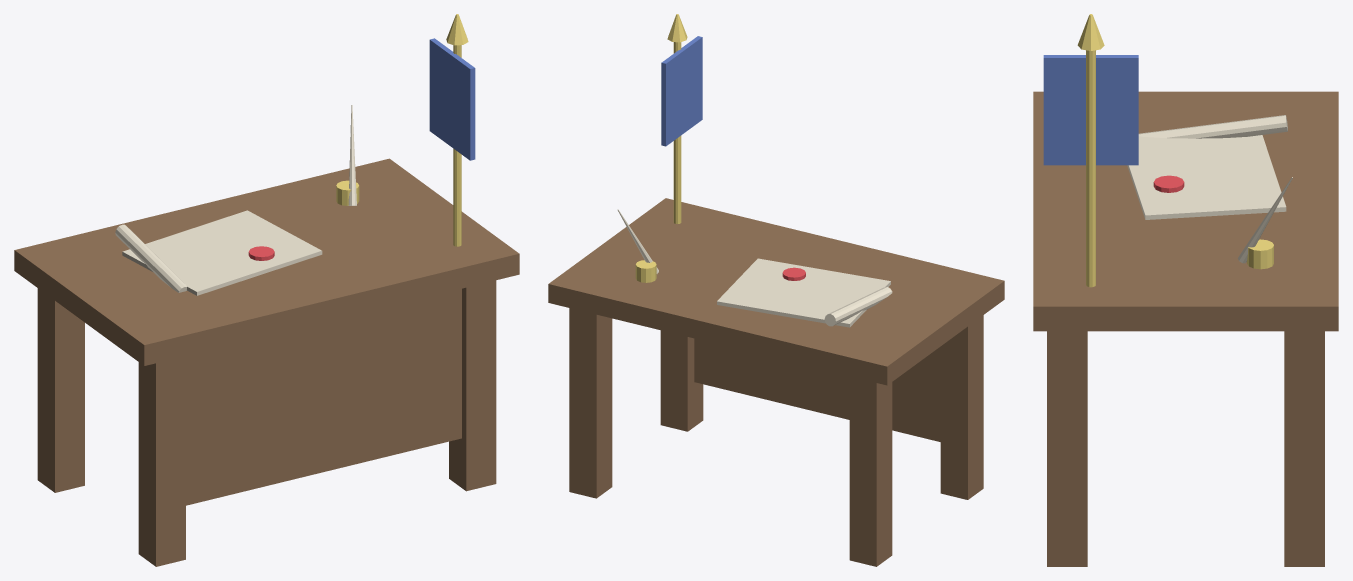
Rendered from town_hall_desk.glb.
The picture shows the model from 3 angles, left to right: view 1: azimuth 30°, elevation 25°; view 2: azimuth 150°, elevation 25°; view 3: azimuth 270°, elevation 25°; orthographic projection. The views are drawn at different scales.
Parts seen in each view (by area): view 1: Cube, Cube.005, Cube.001, Cube.002, Cube.006, Cube.003, Cube.007, Cylinder, Cylinder.003; view 2: Cube, Cube.005, Cube.002, Cube.004, Cube.001, Cube.006, Cube.003, Cube.007, Cylinder, Cylinder.003; view 3: Cube, Cube.006, Cube.003, Cube.004, Cube.007, Cylinder.003, Cylinder, Cylinder.002, Cone.001, Cone, Cylinder.001.
Part boxes in pixels (box(x1,y1,x2,y2)): Cube: box(14, 158, 519, 365); Cube.005: box(186, 288, 461, 505); Cube.001: box(138, 356, 185, 566); Cube.002: box(37, 288, 84, 492); Cube.006: box(122, 210, 322, 295); Cube.003: box(449, 280, 496, 491); Cube.007: box(429, 38, 475, 160); Cylinder: box(115, 224, 186, 292); Cylinder.003: box(453, 45, 461, 246); Cube: box(548, 198, 1004, 385); Cube.005: box(694, 338, 940, 441); Cube.002: box(849, 376, 892, 566); Cube.004: box(569, 308, 612, 498); Cube.001: box(940, 315, 983, 499); Cube.006: box(717, 258, 890, 327); Cube.003: box(660, 330, 703, 431); Cube.007: box(661, 36, 702, 146); Cylinder: box(824, 287, 892, 326); Cylinder.003: box(673, 42, 681, 223); Cube: box(1033, 91, 1338, 331); Cube.006: box(1127, 135, 1286, 219); Cube.003: box(1047, 331, 1087, 566); Cube.004: box(1284, 331, 1324, 566); Cube.007: box(1043, 55, 1138, 165); Cylinder.003: box(1086, 50, 1095, 287); Cylinder: box(1138, 115, 1287, 138); Cylinder.002: box(1247, 239, 1273, 269); Cone.001: box(1077, 14, 1104, 50); Cone: box(1237, 177, 1292, 263); Cylinder.001: box(1153, 175, 1184, 192).
Bounding box in the file's own units: 1.5 × 1.76 × 0.9.
